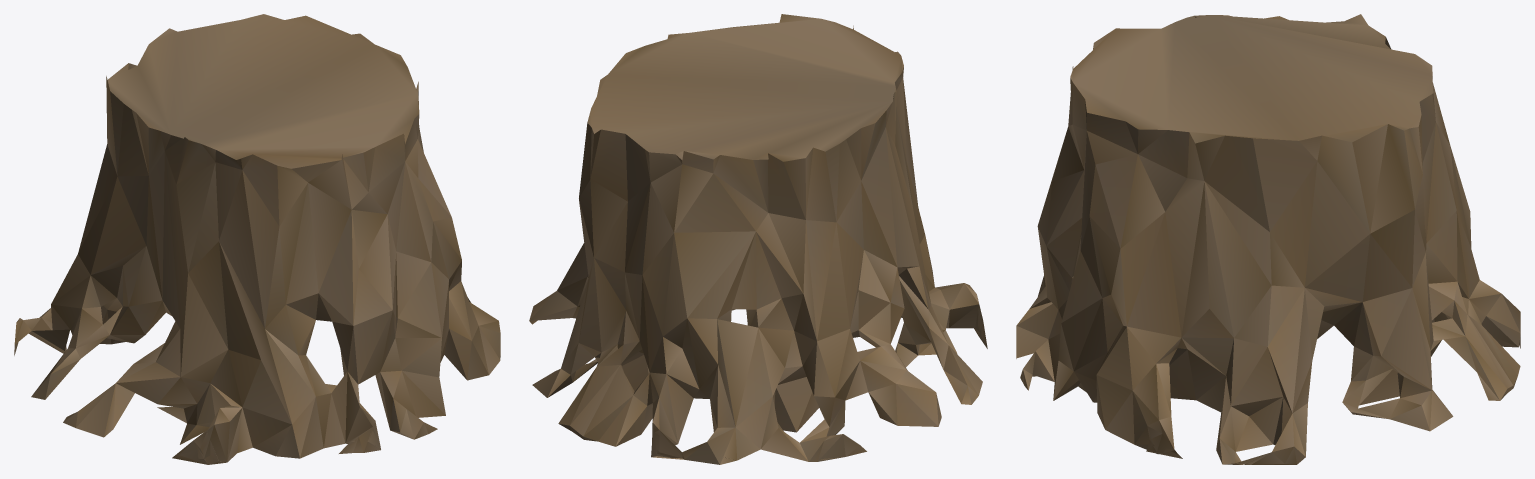
File: hickory_stump.glb
3 renders of one model, left to right at view 1: azimuth 30°, elevation 25°; view 2: azimuth 150°, elevation 25°; view 3: azimuth 270°, elevation 25°, orthographic. The views are drawn at different scales.
Parts seen in each view (by area): view 1: Stump; view 2: Stump; view 3: Stump.
Boxes of the visible parts, box(x1,y1,x2,y2) form: Stump: box(14, 14, 500, 464); Stump: box(529, 14, 987, 464); Stump: box(1016, 14, 1520, 464).
Bounding box in the file's own units: 1.2 × 0.7704 × 1.2.
